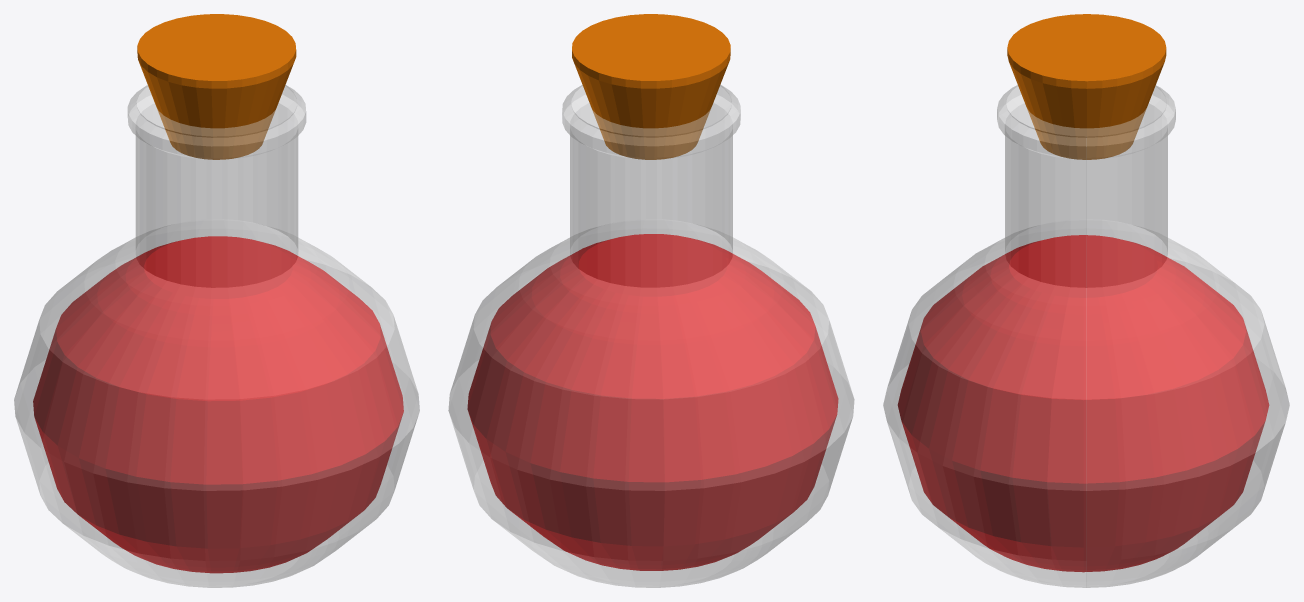
File: POCION.fbx
3 views of the same model, side by side, from view 1: azimuth 30°, elevation 25°; view 2: azimuth 150°, elevation 25°; view 3: azimuth 270°, elevation 25° (orthographic).
Parts seen in each view (by area): view 1: Cylinder, Cylinder.002, Cylinder.001; view 2: Cylinder, Cylinder.002, Cylinder.001; view 3: Cylinder, Cylinder.002, Cylinder.001.
Boxes of the visible parts, x1,y1,x2,y2 form: Cylinder: [14, 85, 419, 587]; Cylinder.002: [33, 236, 403, 573]; Cylinder.001: [137, 14, 296, 159]; Cylinder: [448, 85, 854, 587]; Cylinder.002: [467, 234, 838, 570]; Cylinder.001: [572, 14, 730, 159]; Cylinder: [883, 85, 1289, 587]; Cylinder.002: [898, 235, 1269, 572]; Cylinder.001: [1007, 14, 1166, 159].
Size of the model in its own units: 715 by 977 by 715.
